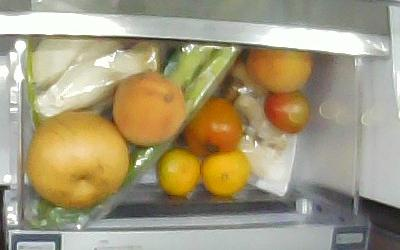peach: (112, 71, 185, 145), (247, 43, 312, 92)
pear: (27, 112, 129, 206)
tangerine: (200, 150, 249, 195), (156, 147, 200, 196)
tomato: (184, 98, 241, 155), (264, 90, 309, 134)
